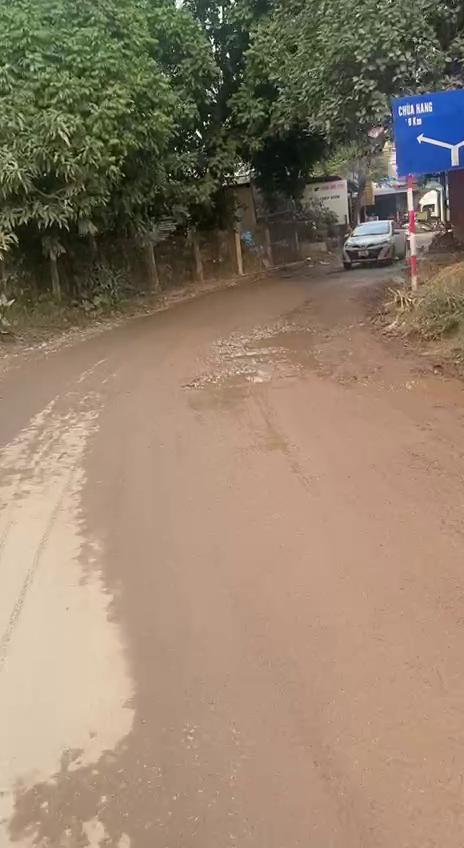pothole: (218, 326, 322, 363), (198, 367, 270, 396)
